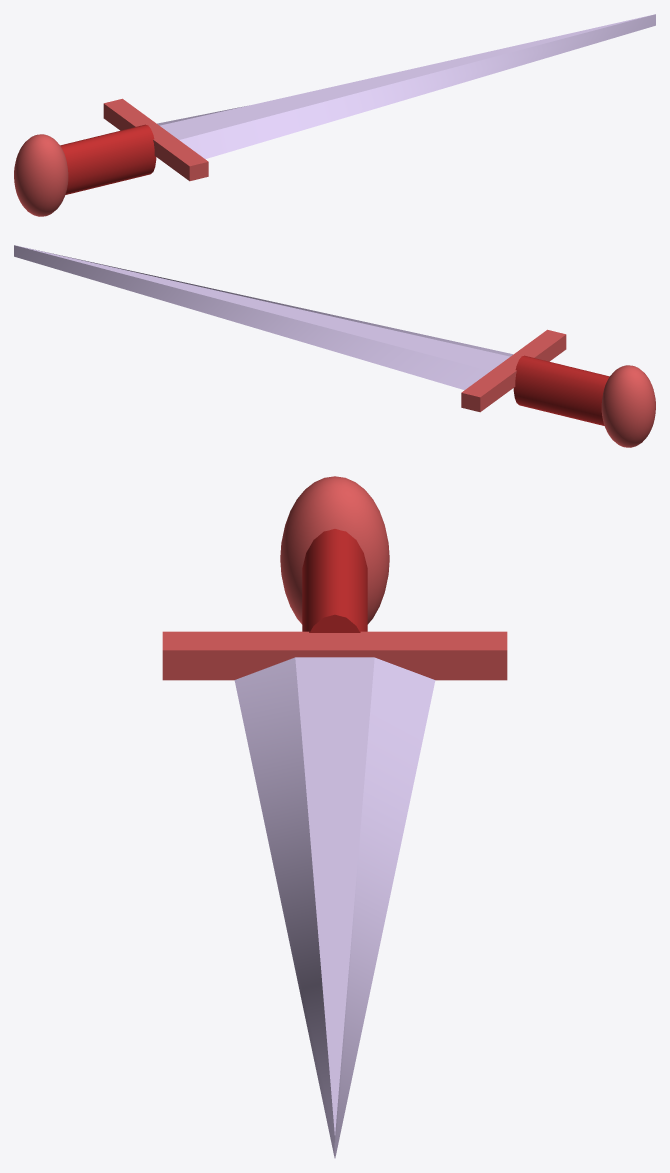
The model's file is sword.glb.
The picture shows the model from 3 angles, top to bottom: view 1: azimuth 30°, elevation 25°; view 2: azimuth 150°, elevation 25°; view 3: azimuth 270°, elevation 25°; orthographic projection. The views are drawn at different scales.
Parts seen in each view (by area): view 1: Box001, Cylinder001, Sphere001, Box002; view 2: Box001, Cylinder001, Sphere001, Box002; view 3: Box001, Box002, Sphere001, Cylinder001.
Part boxes in pixels (bbox=[...]): Box001: bbox=[157, 14, 655, 158]; Cylinder001: bbox=[60, 124, 156, 194]; Sphere001: bbox=[14, 134, 68, 216]; Box002: bbox=[103, 98, 208, 181]; Box001: bbox=[14, 245, 513, 389]; Cylinder001: bbox=[513, 355, 609, 425]; Sphere001: bbox=[601, 365, 655, 447]; Box002: bbox=[461, 329, 566, 412]; Box001: bbox=[234, 657, 435, 1158]; Box002: bbox=[162, 631, 507, 680]; Sphere001: bbox=[280, 476, 389, 624]; Cylinder001: bbox=[302, 529, 367, 632].
Bounding box in the file's own units: 3.81 × 0.454 × 0.8905.
